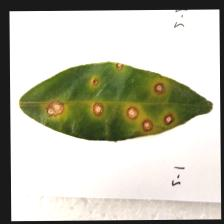canker: (28, 73, 183, 133)
